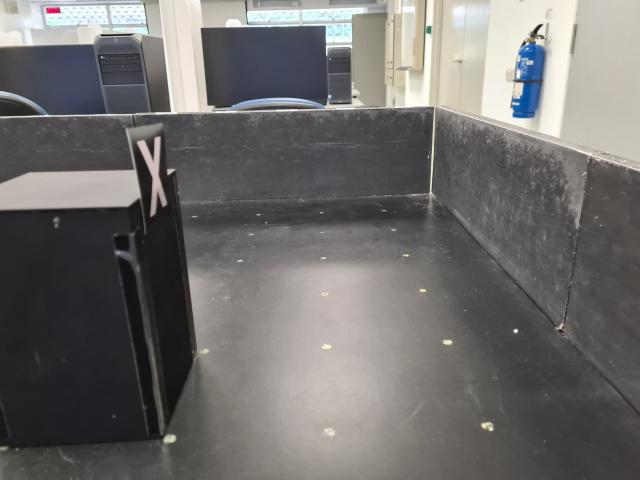x: (125, 121, 176, 236)
